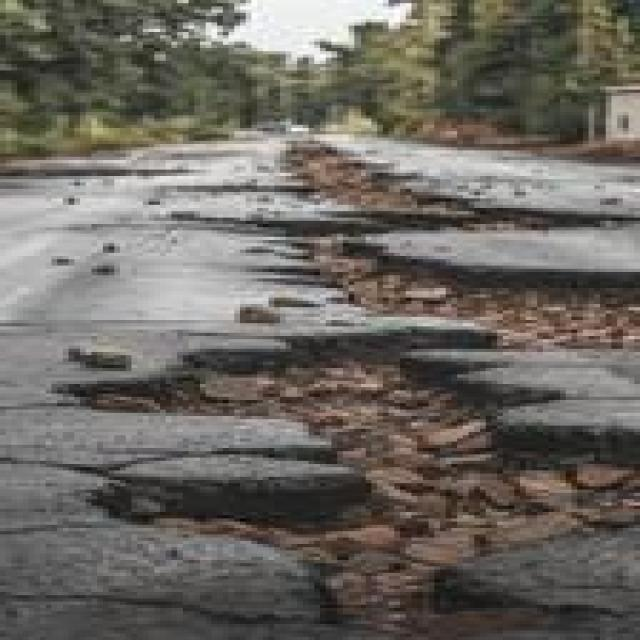road collapse: (11, 67, 640, 640)
